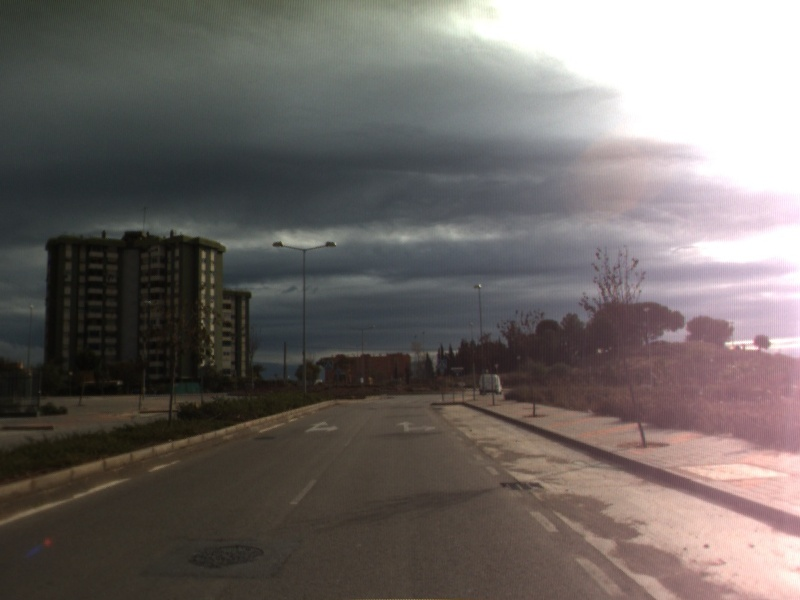STRAIGHT_RIGHT: (395, 419, 437, 434), (303, 419, 340, 435)
